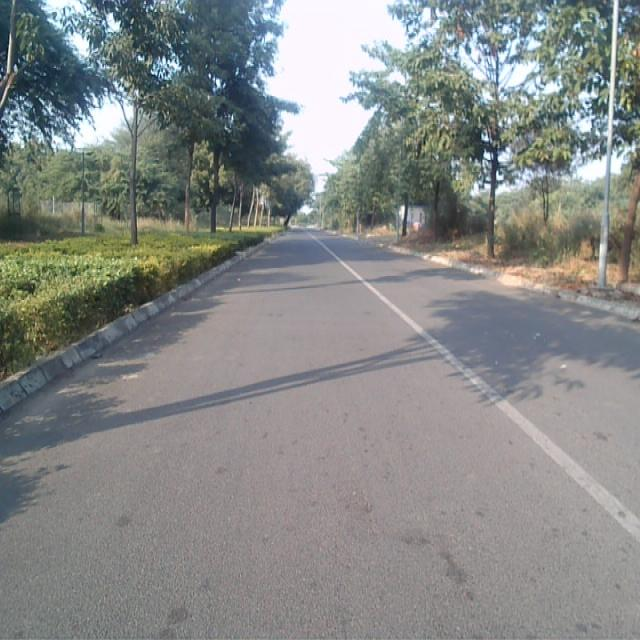lane: (0, 231, 640, 640)
